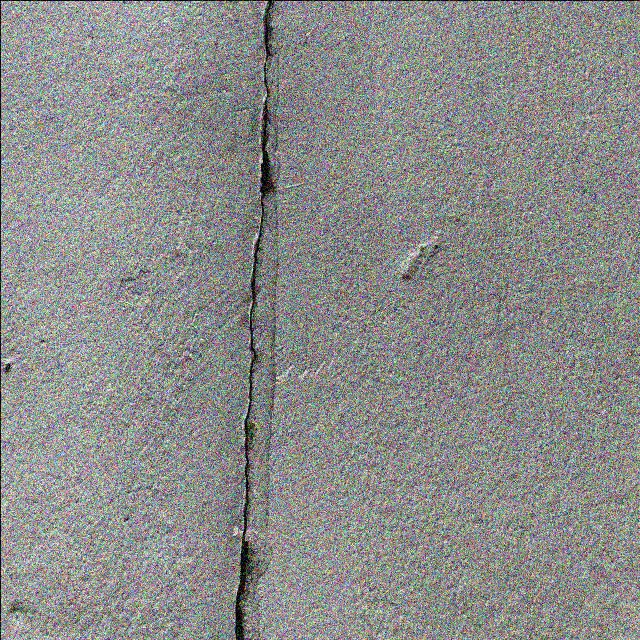SurfaceCrack: (193, 1, 286, 640)
